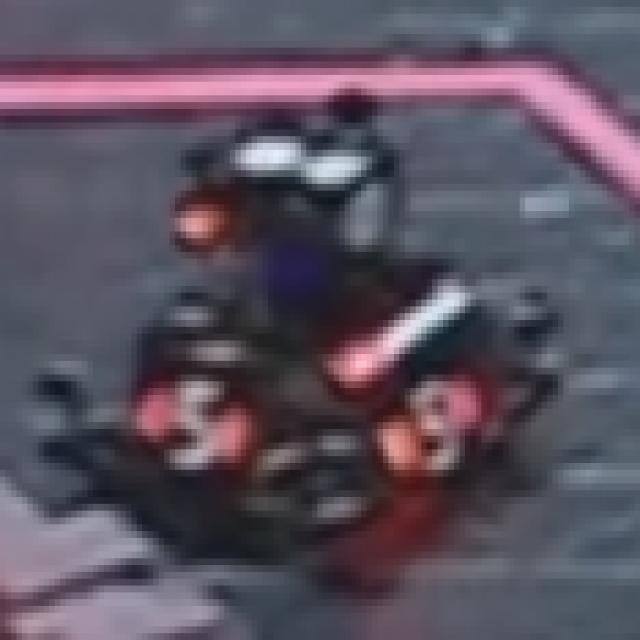R5: (131, 361, 257, 470), (372, 381, 498, 477)
